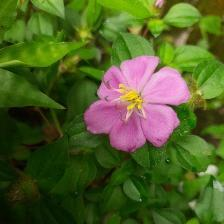malabar melastome: (84, 53, 195, 156)
